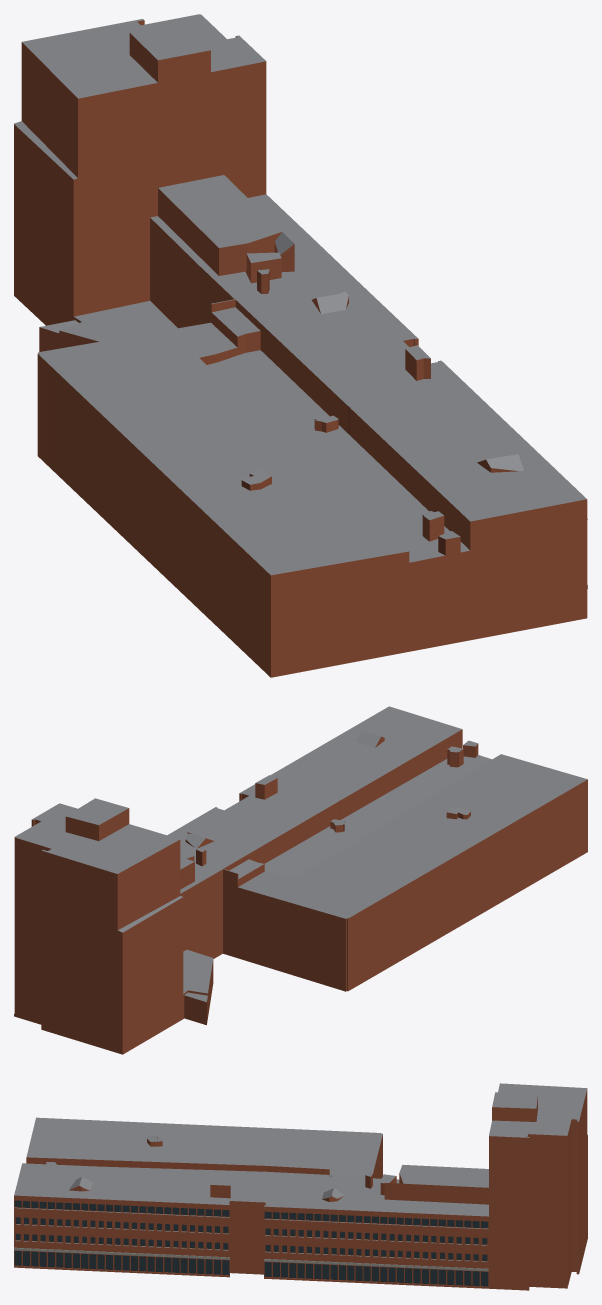
File: recipe-large-heinekenplein-130580.glb
The picture shows the model from 3 angles, top to bottom: view 1: azimuth 30°, elevation 25°; view 2: azimuth 150°, elevation 25°; view 3: azimuth 270°, elevation 25°; orthographic projection. The views are drawn at different scales.
Parts seen in each view (by area): view 1: heinekenplein-130580; view 2: heinekenplein-130580; view 3: heinekenplein-130580.
Part boxes in pixels (x1,y1,x2,y2): heinekenplein-130580: [14, 14, 587, 677]; heinekenplein-130580: [14, 706, 587, 1054]; heinekenplein-130580: [14, 1083, 587, 1290].
Bounding box in the file's own units: 50.36 × 35.17 × 110.
